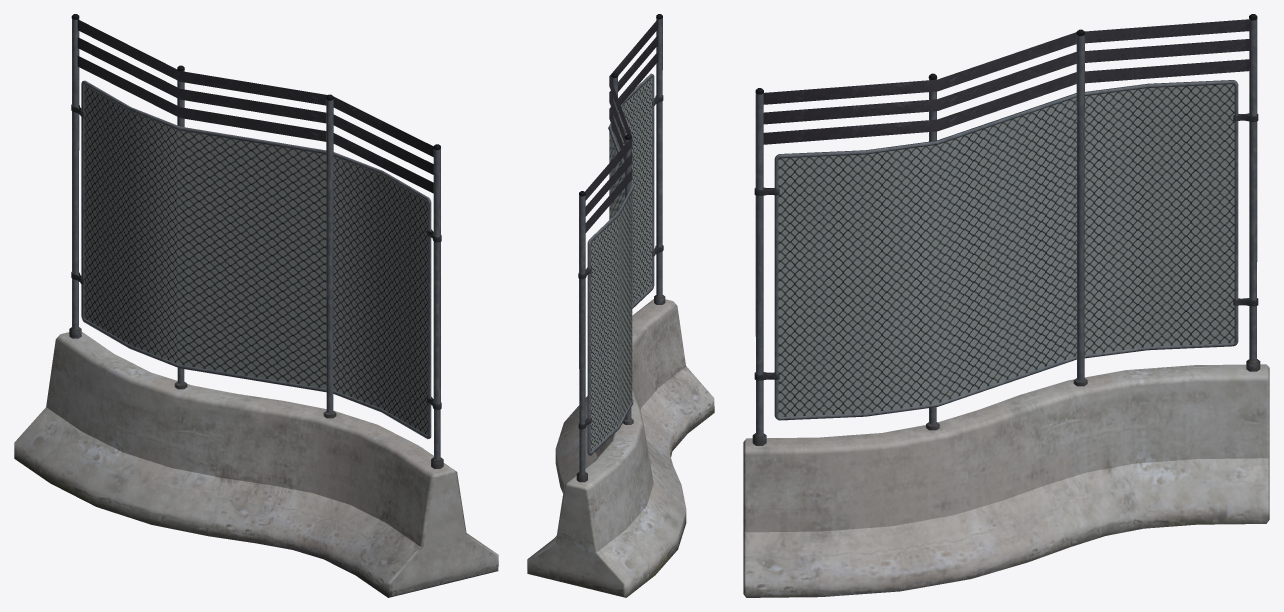
File: Fence_C_E.fbx
3 views of the same model, side by side, from view 1: azimuth 30°, elevation 25°; view 2: azimuth 150°, elevation 25°; view 3: azimuth 270°, elevation 25° (orthographic). The views are drawn at different scales.
Parts seen in each view (by area): view 1: Fence_C_E_LOD0; view 2: Fence_C_E_LOD0; view 3: Fence_C_E_LOD0.
Boxes of the visible parts, x1=… form: Fence_C_E_LOD0: x1=14, y1=14, x2=498, y2=597; Fence_C_E_LOD0: x1=527, y1=14, x2=714, y2=597; Fence_C_E_LOD0: x1=743, y1=14, x2=1269, y2=597.
Size of what is drawn, in the model's own units: 180 by 302 by 300.
